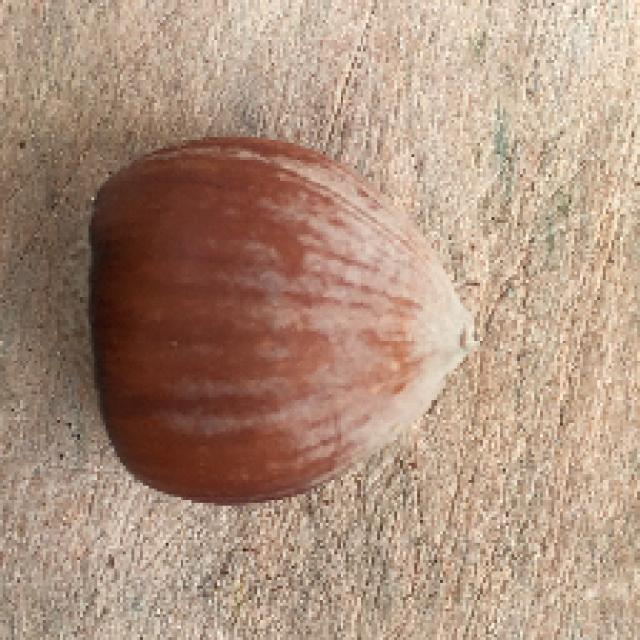qualityHazelnut: (79, 126, 482, 515)
